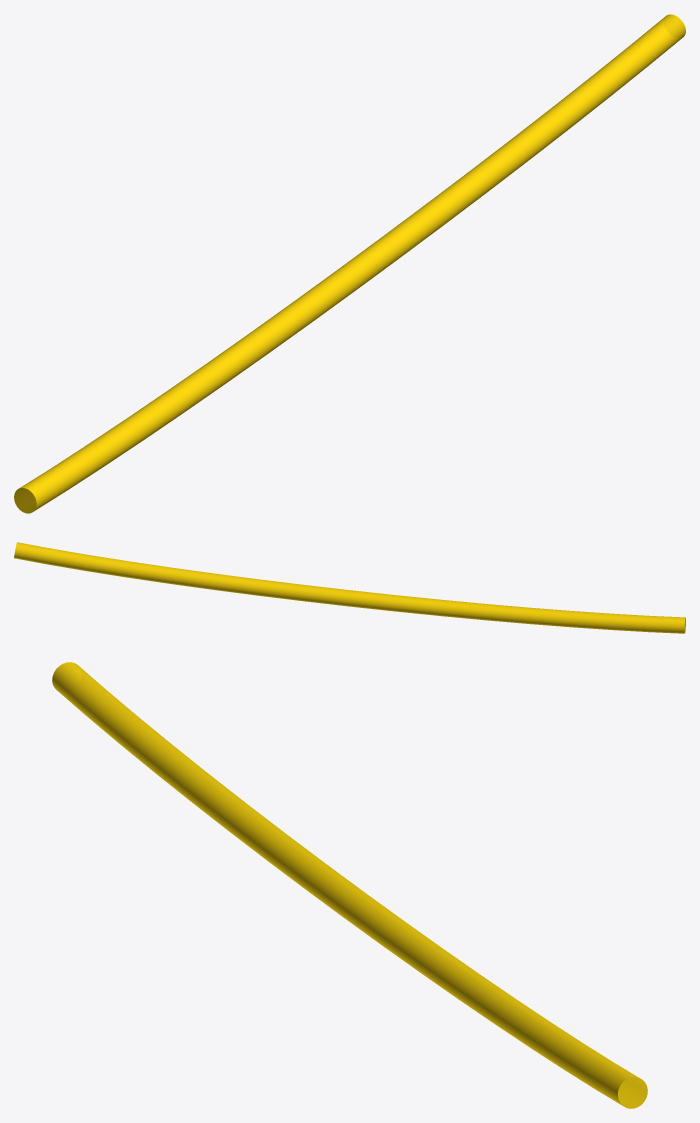
The model's file is Event_421127236_track_27.fbx.
3 views of the same model, one above another, from view 1: azimuth 30°, elevation 25°; view 2: azimuth 150°, elevation 25°; view 3: azimuth 270°, elevation 25° (orthographic). The views are drawn at different scales.
Visible parts, largest first — view 1: Model; view 2: Model; view 3: Model.
Part boxes in pixels (x1,y1,x2,y2): Model: (14,14,685,513); Model: (14,542,685,633); Model: (52,662,647,1108).
Bounding box in the file's own units: 1.5 × 0.1741 × 0.7251.
